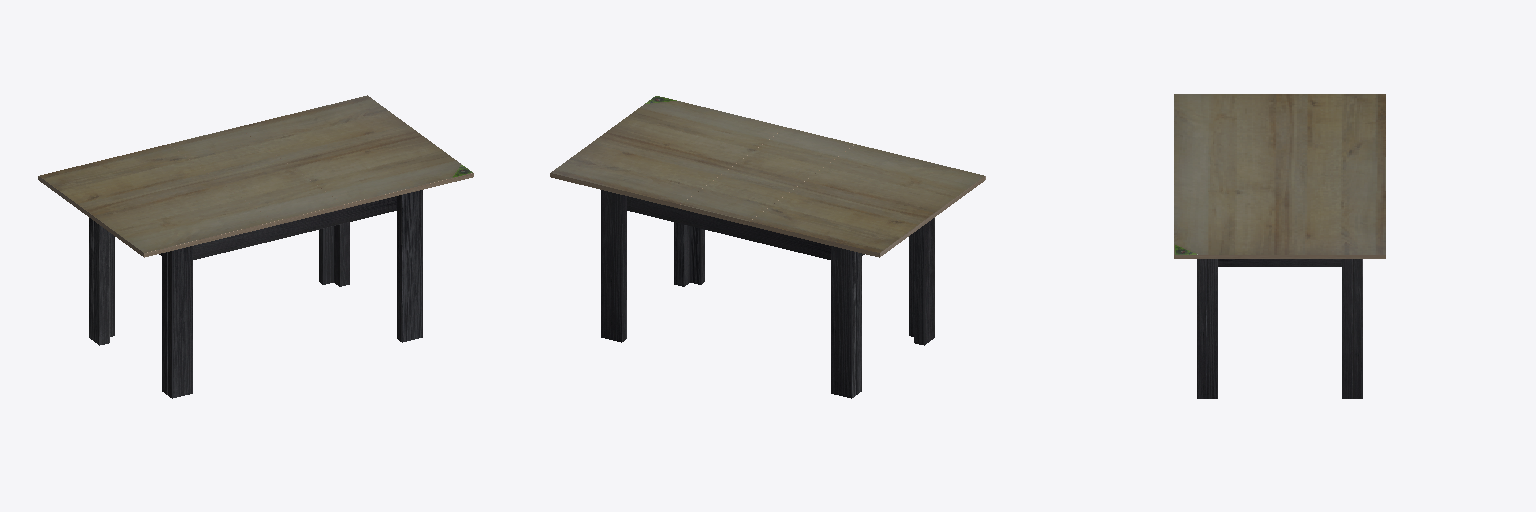
The picture shows the model from 3 angles: view 1: azimuth 30°, elevation 25°; view 2: azimuth 150°, elevation 25°; view 3: azimuth 270°, elevation 25°; orthographic projection.
Visible parts, largest first — view 1: solid_005, solid_004, solid_003; view 2: solid_005, solid_004, solid_003; view 3: solid_005, solid_004, solid_003.
Boxes of the visible parts, box(x1,y1,x2,y2) form: solid_005: box(39, 95, 470, 252); solid_004: box(89, 190, 422, 398); solid_003: box(38, 128, 473, 257); solid_005: box(551, 97, 984, 252); solid_004: box(601, 190, 934, 398); solid_003: box(550, 128, 985, 257); solid_005: box(1174, 94, 1385, 254); solid_004: box(1197, 259, 1362, 398); solid_003: box(1174, 255, 1385, 258).
Size of the model in its own units: 2 by 0.9485 by 1.11.
1 materials, 1 textured.